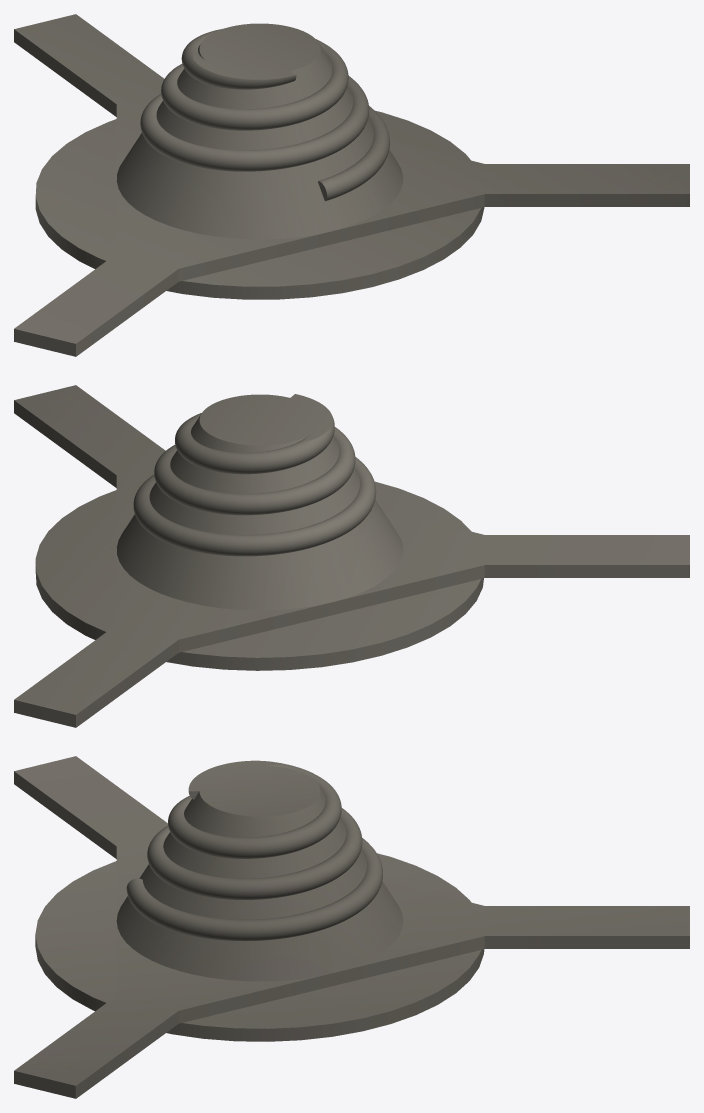
The model's file is docking_mechanism_dog_side.dae.
3 views of the same model, one above another, from view 1: azimuth 30°, elevation 25°; view 2: azimuth 150°, elevation 25°; view 3: azimuth 270°, elevation 25° (orthographic).
Visible parts, largest first — view 1: Shape_IndexedFaceSet.001; view 2: Shape_IndexedFaceSet.001; view 3: Shape_IndexedFaceSet.001.
Boxes of the visible parts, x1,y1,x2,y2 form: Shape_IndexedFaceSet.001: [14, 14, 689, 356]; Shape_IndexedFaceSet.001: [14, 385, 689, 727]; Shape_IndexedFaceSet.001: [14, 756, 689, 1098].
Size of the model in its own units: 1.09 by 0.9433 by 0.24.
1 material, 1 textured.
